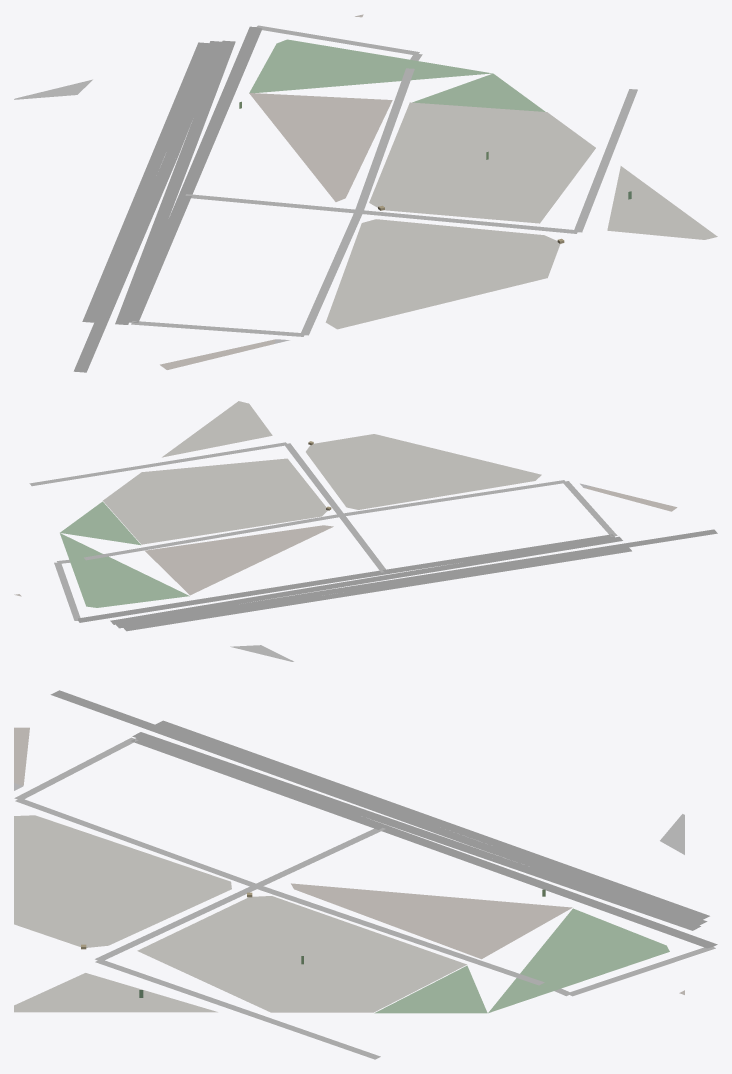
3 views of the same model, one above another, from view 1: azimuth 30°, elevation 25°; view 2: azimuth 150°, elevation 25°; view 3: azimuth 270°, elevation 25° (orthographic). The views are drawn at different scales.
Size of the model in its own units: 648 by 8.02 by 525.
